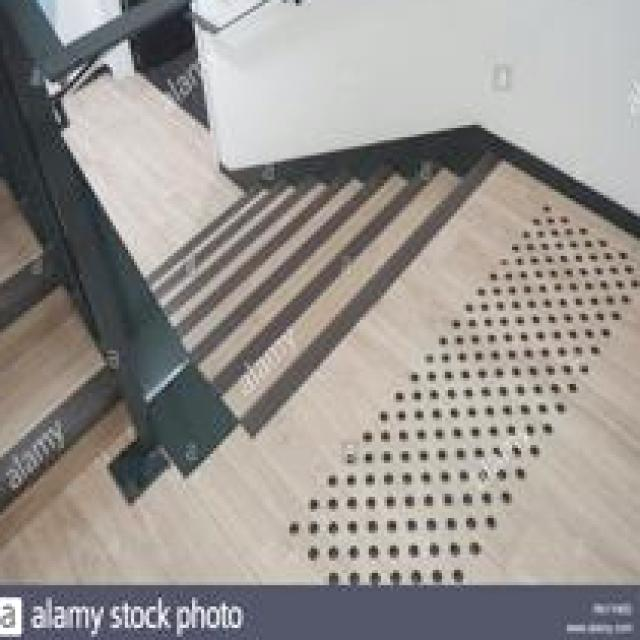downstair: (148, 187, 471, 458)
